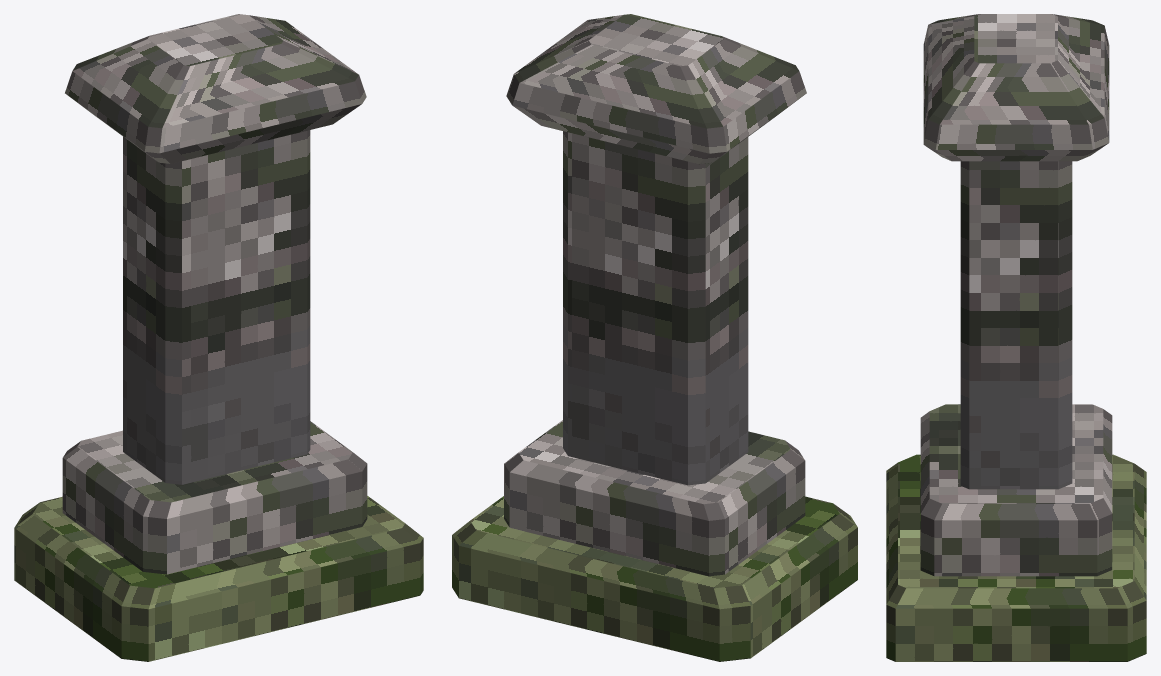
Rendered from MemorialMarkerMediumA.glb.
The picture shows the model from 3 angles, left to right: view 1: azimuth 30°, elevation 25°; view 2: azimuth 150°, elevation 25°; view 3: azimuth 270°, elevation 25°; orthographic projection.
Parts seen in each view (by area): view 1: MemorialMarkerMediumA; view 2: MemorialMarkerMediumA; view 3: MemorialMarkerMediumA.
Boxes of the visible parts, bbox=[...] form: MemorialMarkerMediumA: bbox=[14, 14, 423, 661]; MemorialMarkerMediumA: bbox=[452, 14, 857, 661]; MemorialMarkerMediumA: bbox=[886, 14, 1146, 661].
Bounding box in the file's own units: 0.56 × 0.98 × 0.42.
Materials: 2 (2 with a texture image).
